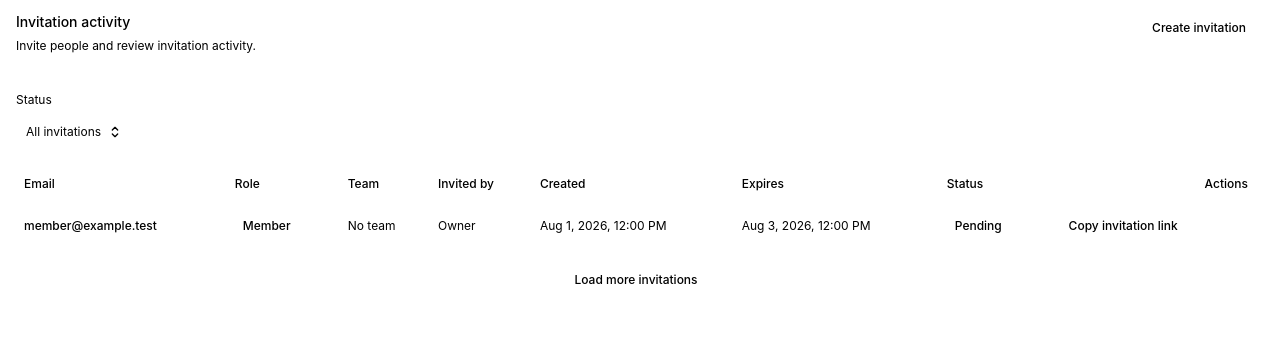
Test: retains visible activity when a continuation fails
Step 1. Click the button "Load more invitations" → (636,280), box [16,264,1256,296]
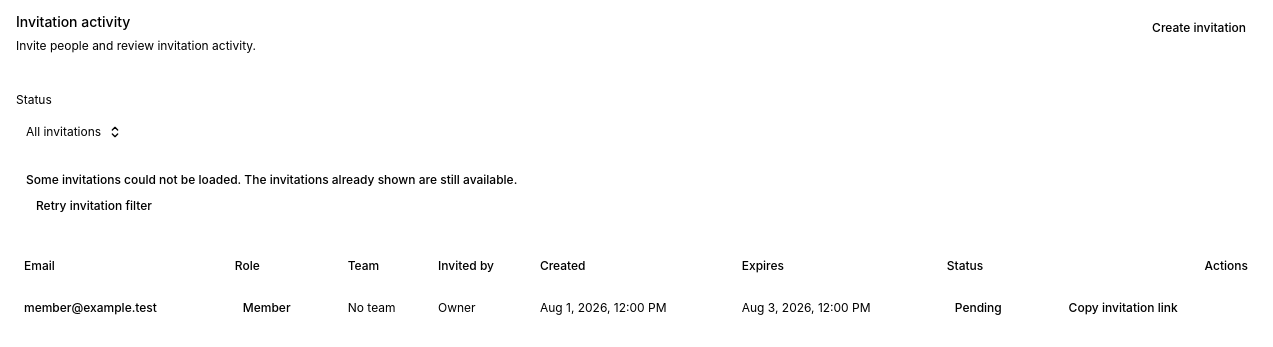
expect the text "member@example.test" is shown: met, box [16,286,227,330]
expect the text "Some invitations could not be loaded. The invitations already shown are still available." is shown: met, box [26,172,517,187]
